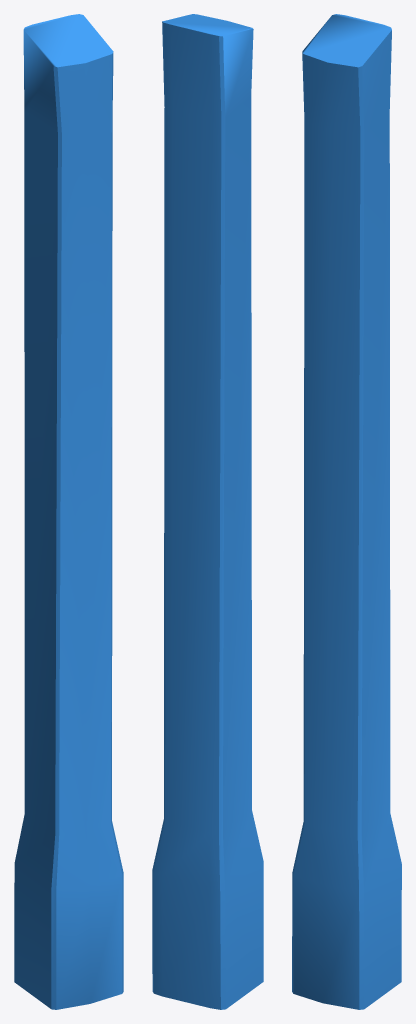
File: ColumnLarge.fbx
3 renders of one model, left to right at view 1: azimuth 30°, elevation 25°; view 2: azimuth 150°, elevation 25°; view 3: azimuth 330°, elevation 25°, orthographic.
Parts seen in each view (by area): view 1: Box072; view 2: Box072; view 3: Box072.
Part boxes in pixels (<box>): Box072: <box>14,14,123,1009</box>; Box072: <box>152,14,263,1009</box>; Box072: <box>292,14,401,1009</box>.
Size of the model in its own units: 29.5 by 30.97 by 370.
